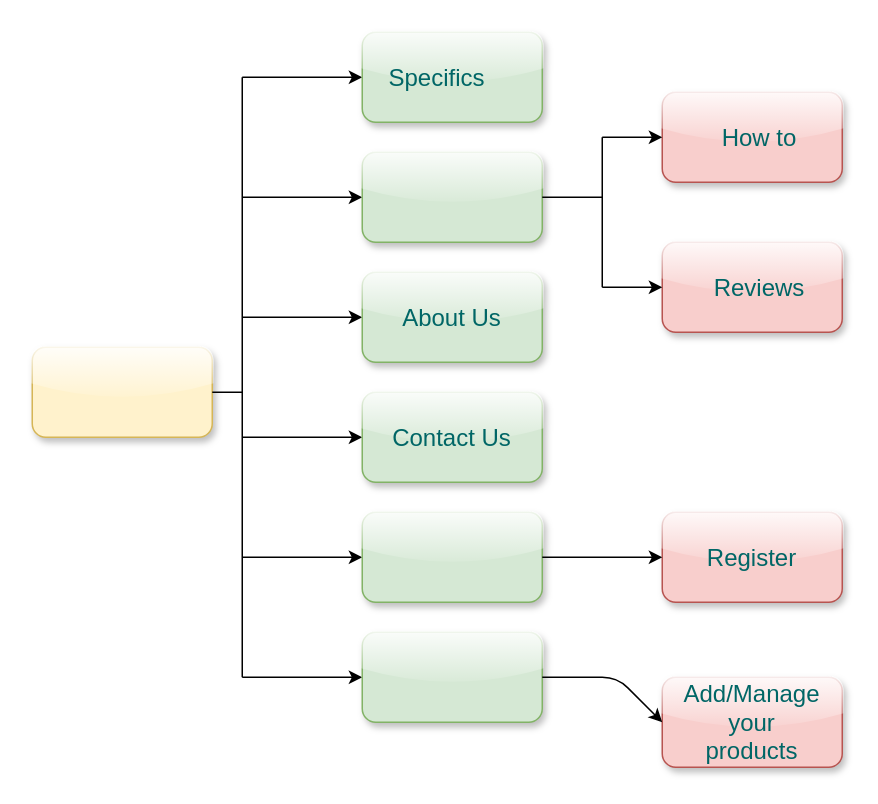
This 878x804 diagram has some shape labels left out. Here are the shapes that lost their labels. From the top down, the centre of each, then its label:
point (453, 199): FAQs
point (123, 394): Home
point (453, 559): Create your Account
point (453, 679): Login/SignUp
